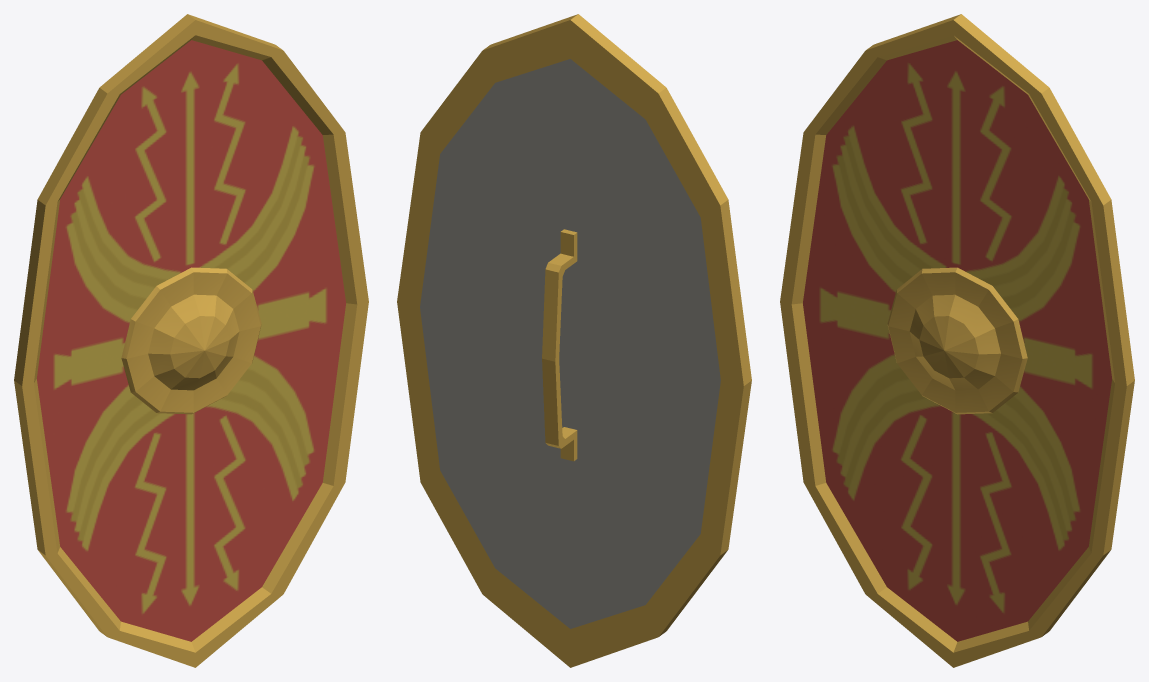
File: SM_pwe_rome_shield_06a.fbx
The picture shows the model from 3 angles, left to right: view 1: azimuth 30°, elevation 25°; view 2: azimuth 150°, elevation 25°; view 3: azimuth 330°, elevation 25°; orthographic projection.
Parts seen in each view (by area): view 1: SM_pwe_rome_shield_06a; view 2: SM_pwe_rome_shield_06a; view 3: SM_pwe_rome_shield_06a.
Boxes of the visible parts, x1,y1,x2,y2 form: SM_pwe_rome_shield_06a: (14,14,368,667); SM_pwe_rome_shield_06a: (397,14,751,667); SM_pwe_rome_shield_06a: (780,14,1134,667).
Bounding box in the file's own units: 58.09 × 104 × 11.44.
